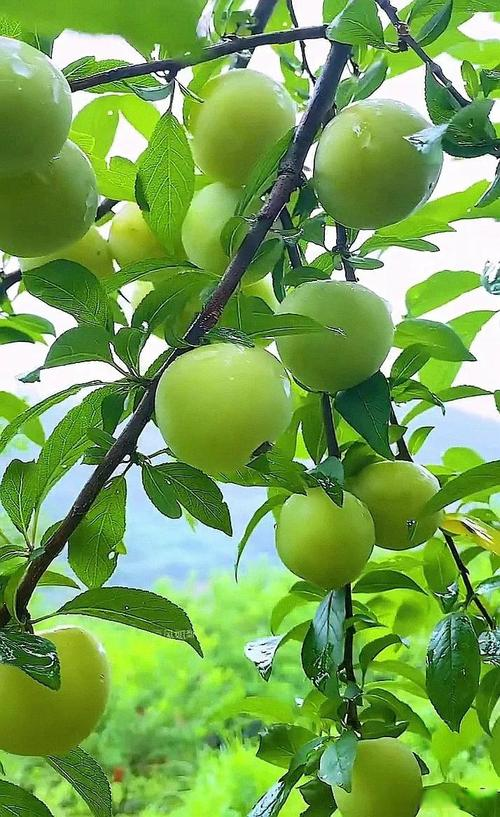unripe: (144, 338, 300, 486), (315, 83, 446, 238), (0, 617, 119, 773), (177, 65, 300, 190), (271, 275, 392, 392), (0, 140, 108, 265), (313, 725, 442, 817), (0, 27, 75, 183), (181, 183, 292, 286), (348, 459, 467, 552), (269, 486, 377, 584)
